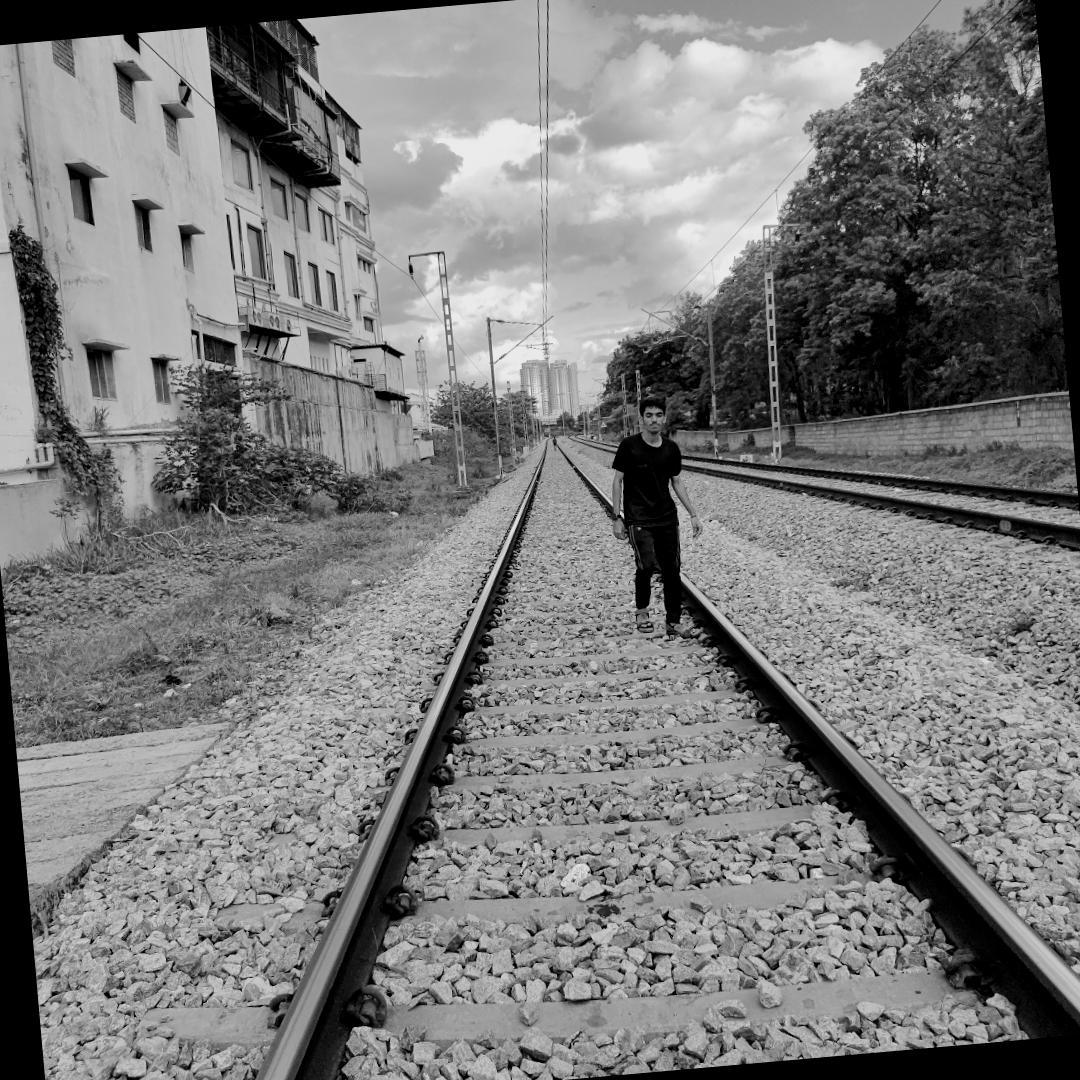standing: (588, 380, 718, 662)
